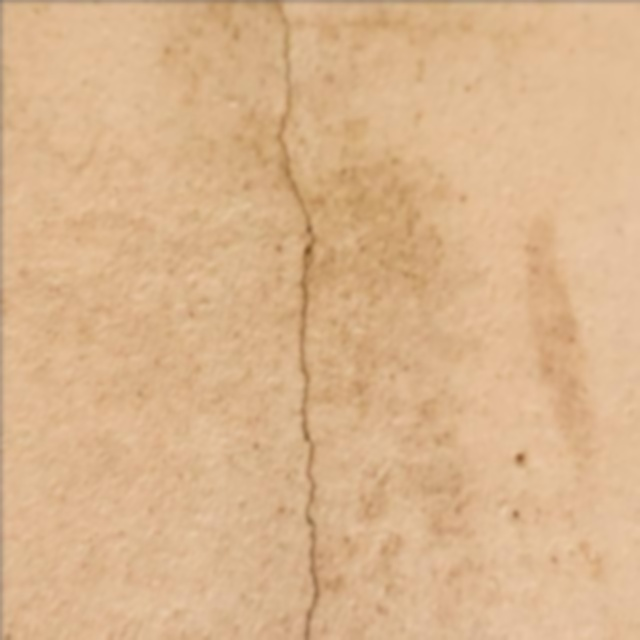SurfaceCrack: (235, 1, 371, 640)
